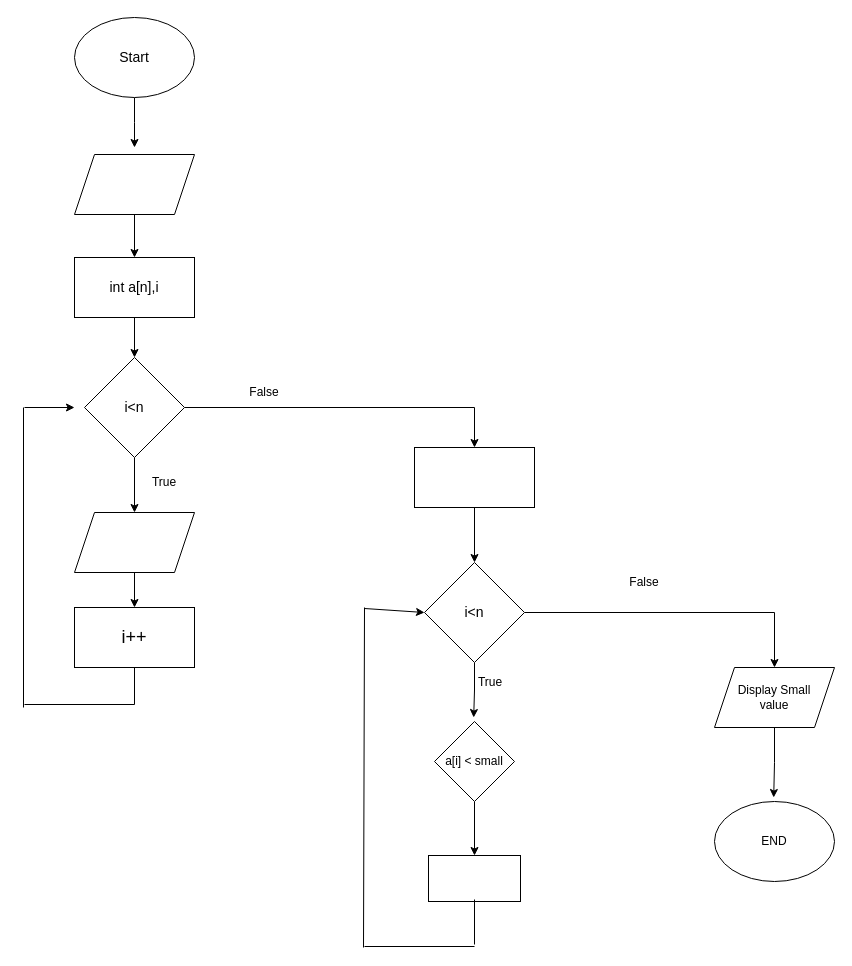
Some shapes in this 852 by 966 pixel diagram are drawn without their labels. Each missing label, with the centre of its shape:
"int small = 0" goes at (474,477).
"Read a[i]" goes at (134,542).
"Read n" goes at (134,184).
"smal = a[i]" goes at (474,878).
